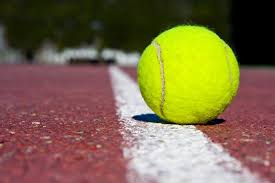tennis_ball: (137, 24, 239, 125)
